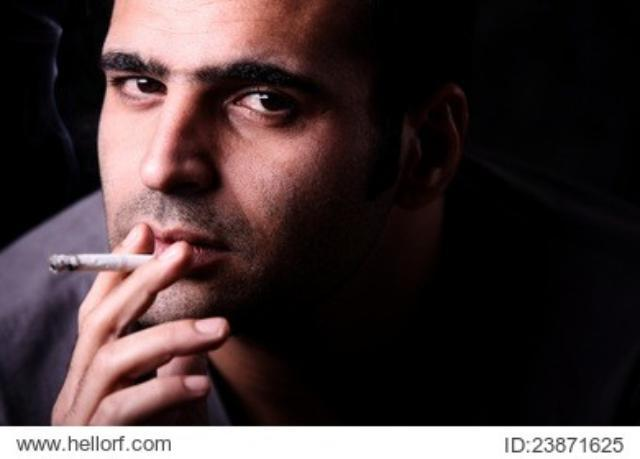SafeDriving: (222, 78, 315, 130), (96, 58, 182, 110)
Smoking: (44, 245, 154, 281)
